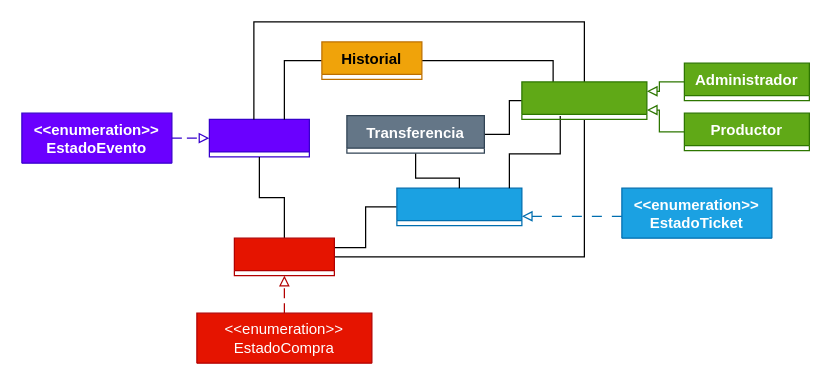
This 831x385 diagram has some shape labels left out. The centre of each missing label's shape, as x and y in pixels:
"Compra" goes at point 283,256.
"Evento" goes at point 258,137.
"Ticket" goes at point 459,206.
"Usuario" goes at point 584,100.
